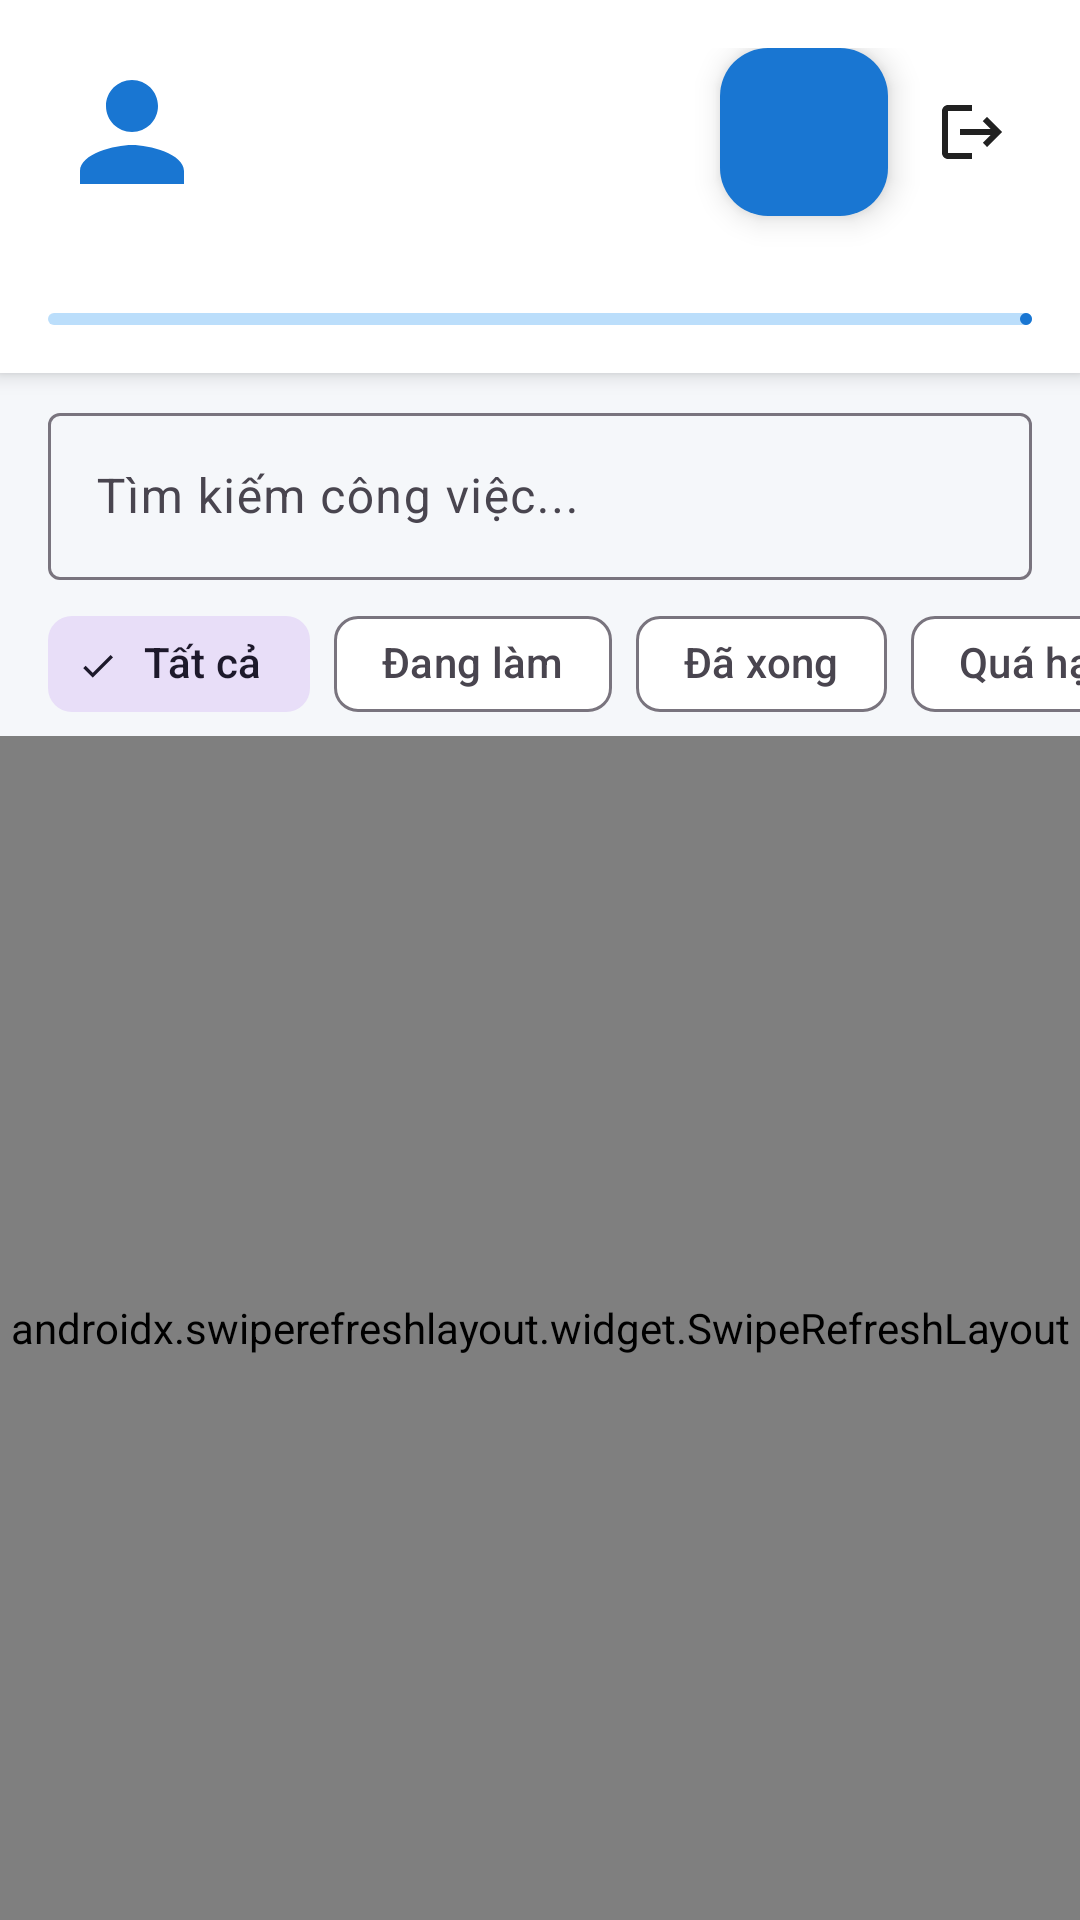

Screen size 1080w x 1920h. Icon name, then its center in pixels as [x,y]:
person: [132,132]
